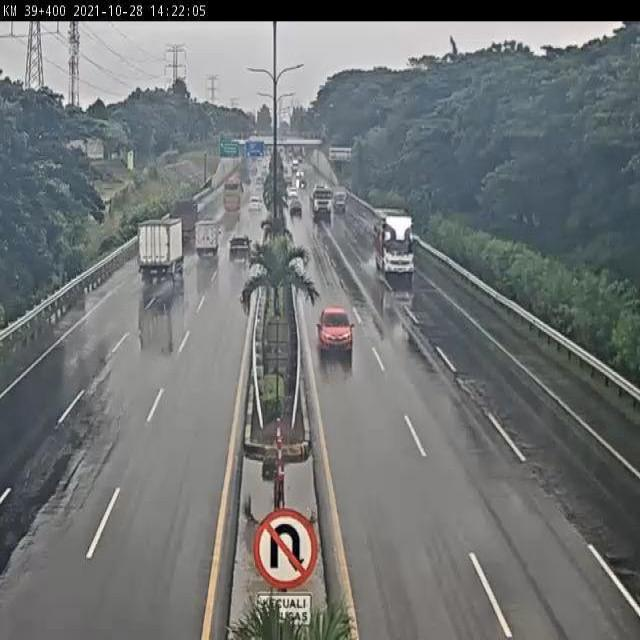car: (313, 304, 353, 355), (226, 235, 252, 265), (250, 194, 263, 214)
small truck: (368, 202, 421, 282), (128, 213, 183, 280), (168, 196, 205, 245), (192, 220, 220, 260)
